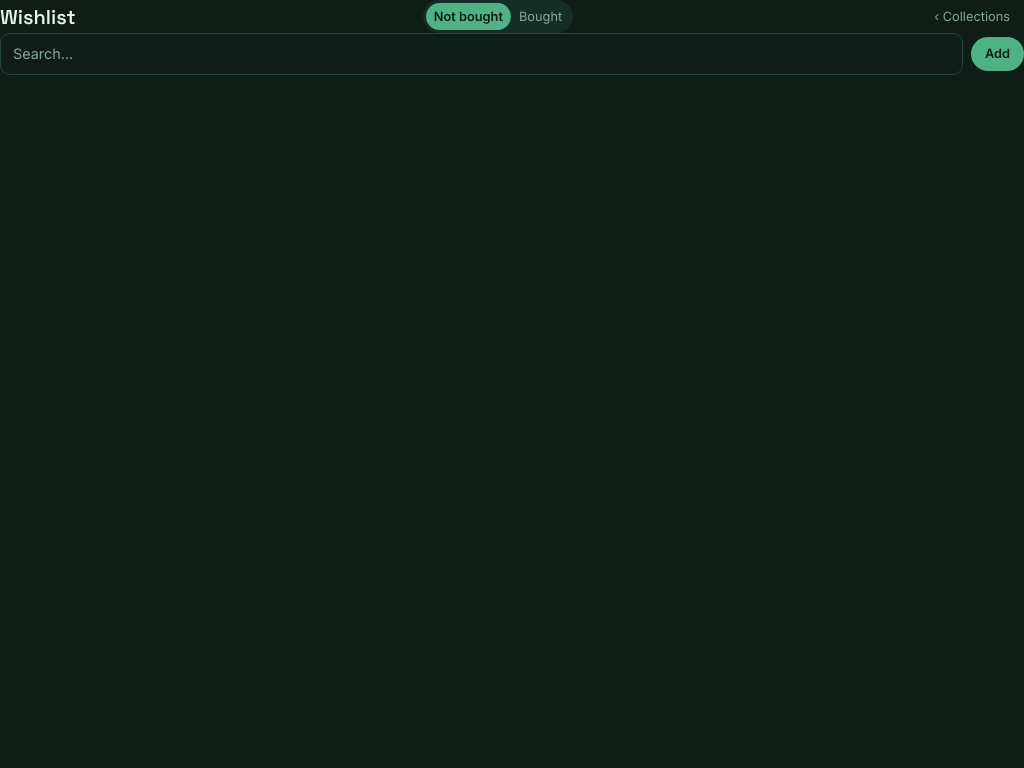
Test case: Add opens an empty modal
Click the button "Add": {"x": 997, "y": 54} [971, 37, 1023, 71]
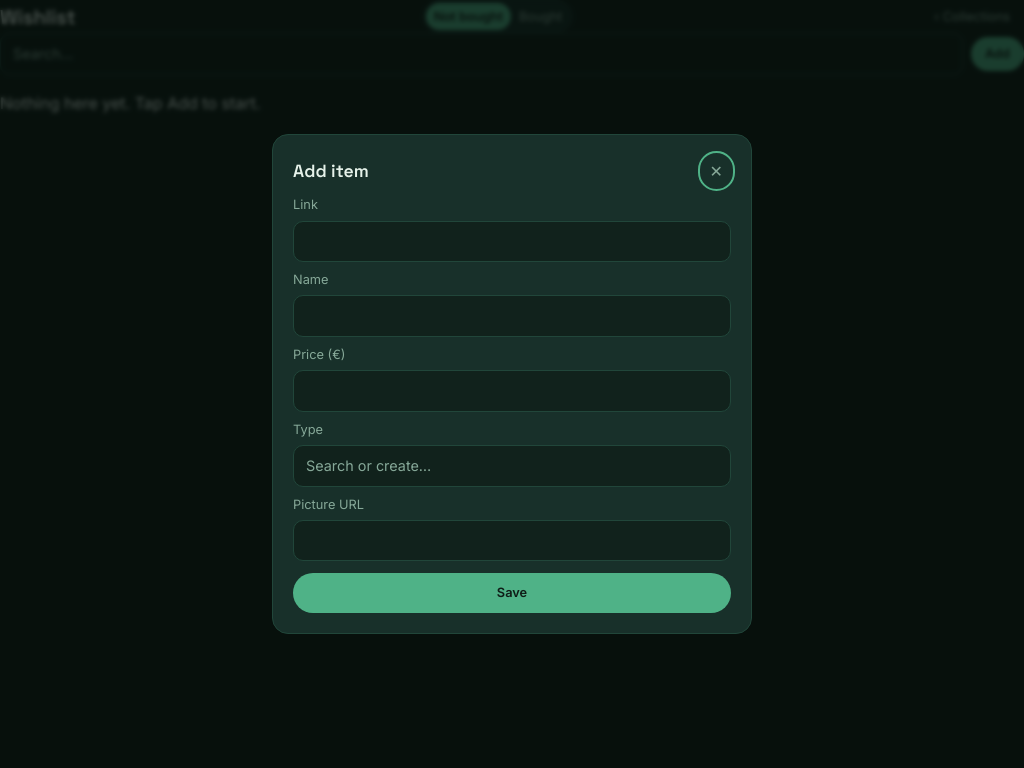
Expected: the field labelled "Link" is empty, [293, 221, 731, 262]
Result: the dialog "Add item" is shown at [272, 134, 752, 634]
